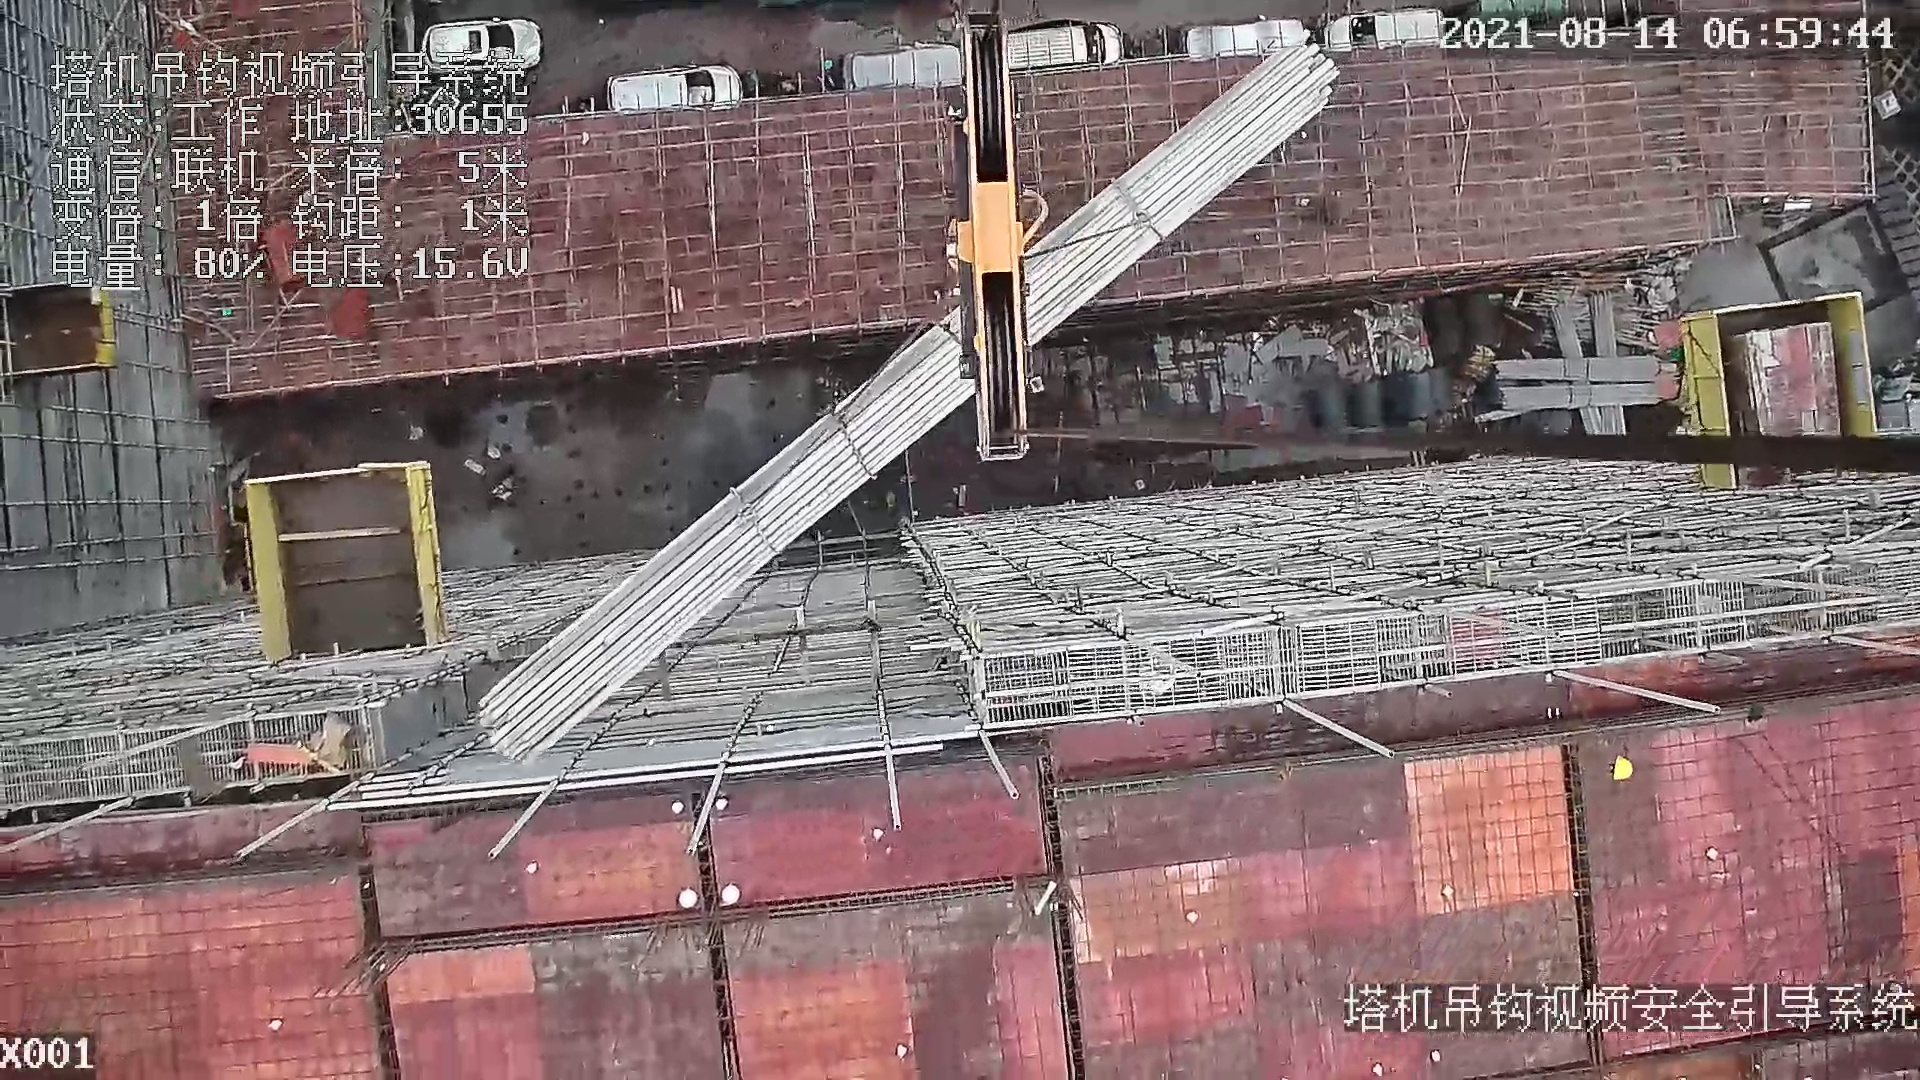board: (1731, 319, 1851, 436)
helmet: (1613, 754, 1633, 781)
hook: (931, 13, 1050, 472)
rebar: (473, 47, 1342, 757), (1498, 382, 1665, 415), (1495, 353, 1662, 382), (1586, 291, 1619, 357), (1548, 301, 1585, 359)
